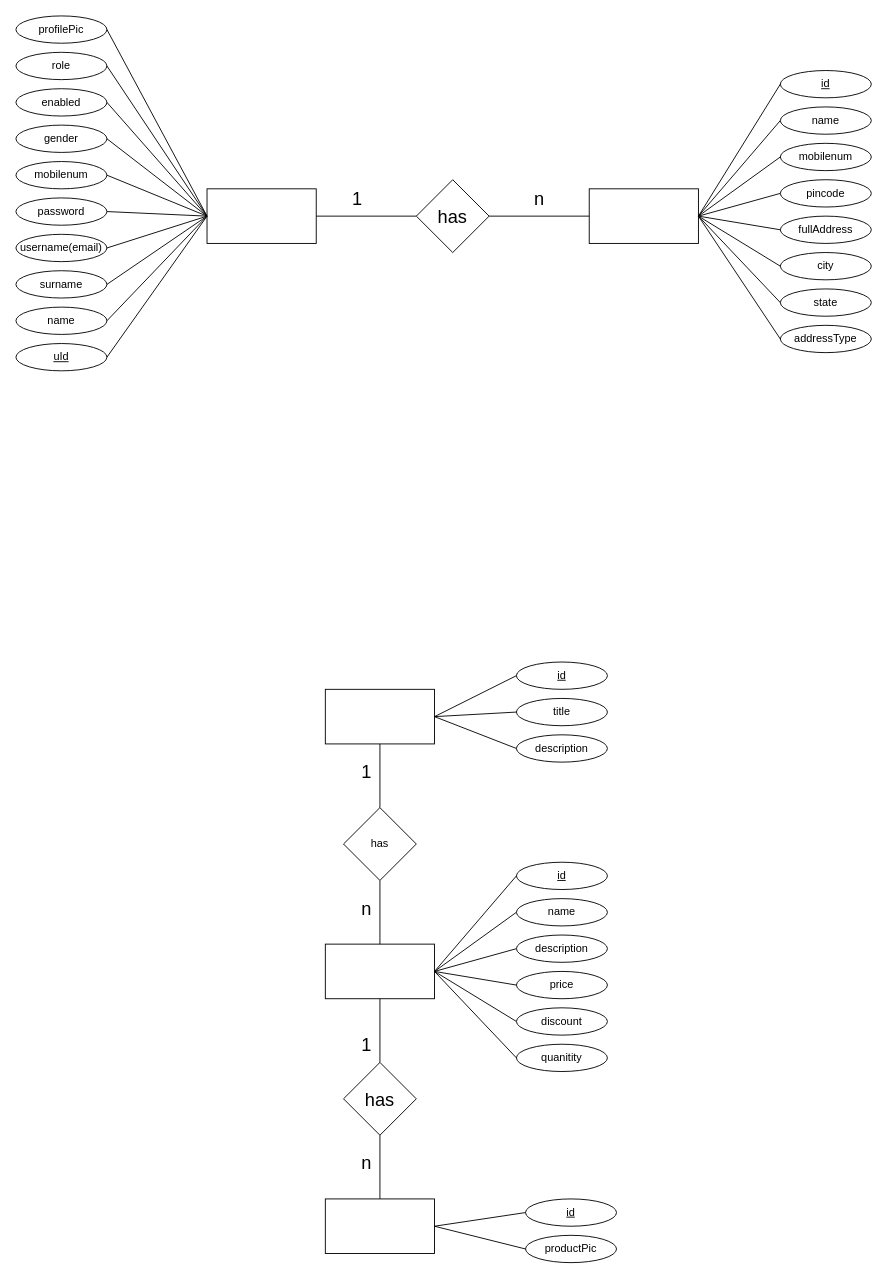
This 887x1279 diagram has some shape labels left out. The shapes that lost their labels are listed below. From the top down, each one's centre as x and y in pixels, then its label:
At [261,215]: "USER".
At [643,215]: "ADDRESS".
At [379,716]: "Category".
At [379,971]: "Product".
At [379,1226]: "Product Image".
